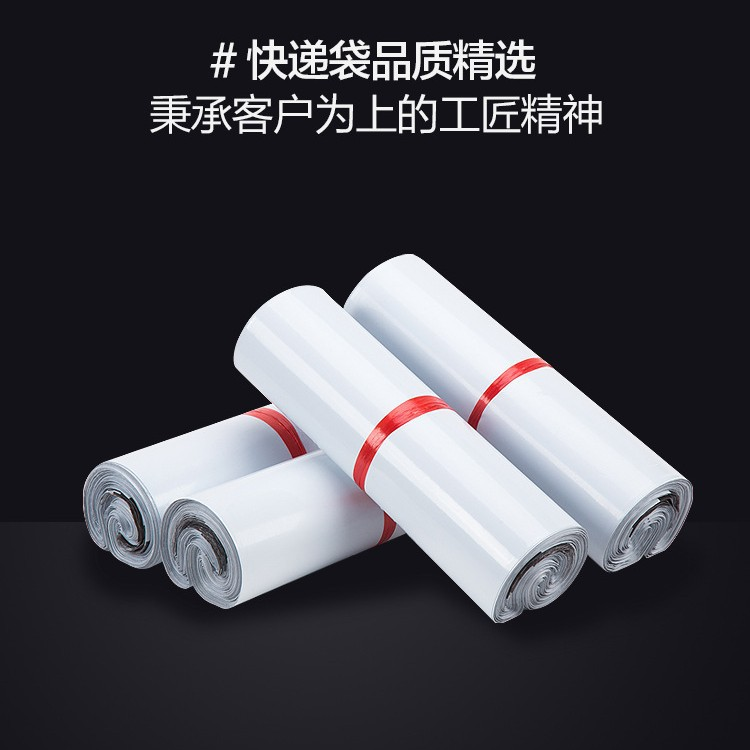Parcel: (83, 255, 691, 621)
